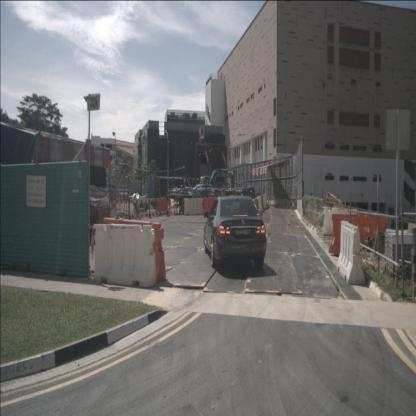barrier: (93, 223, 157, 287), (103, 217, 166, 282), (328, 212, 388, 254), (336, 220, 366, 286), (322, 205, 358, 236), (96, 207, 116, 228), (183, 197, 204, 216), (203, 197, 224, 214), (156, 198, 171, 215), (255, 195, 263, 215), (262, 192, 270, 212)
cone: (167, 204, 170, 215), (173, 205, 175, 215), (170, 206, 172, 216)
